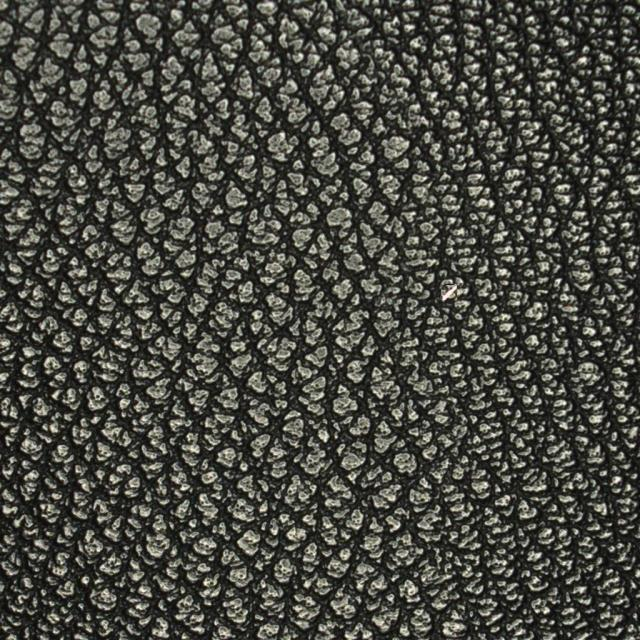pinhole: (387, 184, 521, 386)
